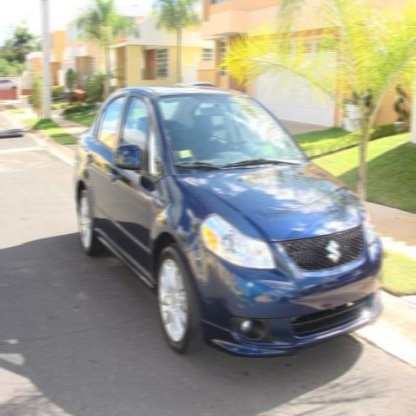Vehicle: (72, 80, 386, 362)
